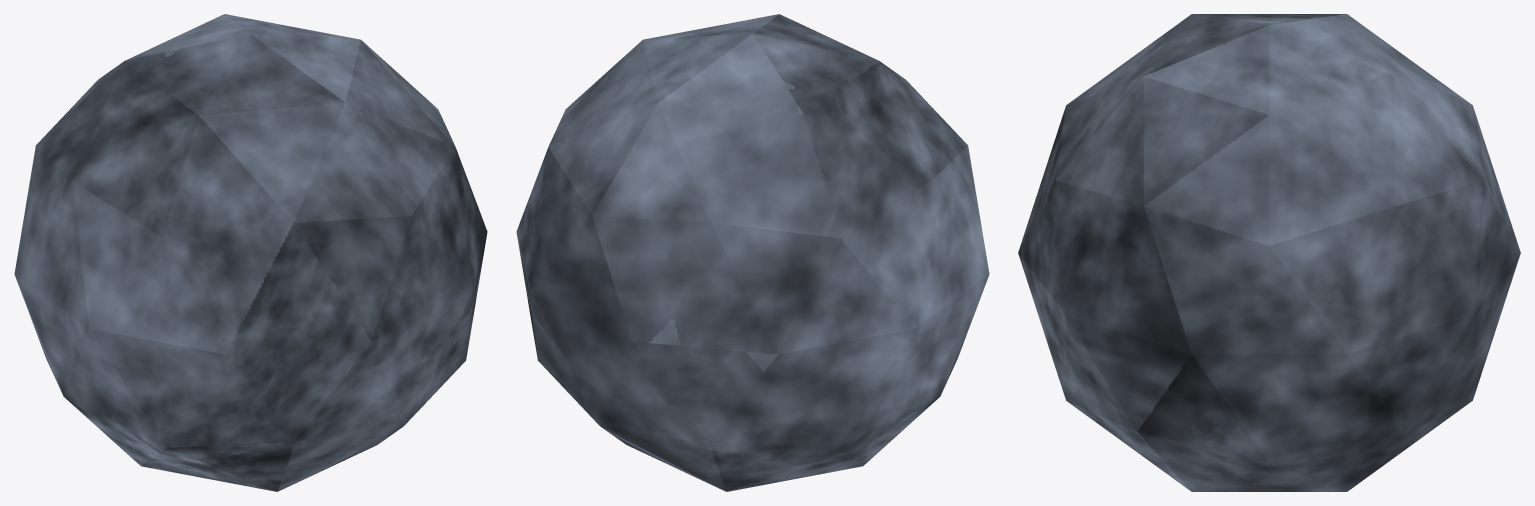
Rendered from big_planet.gltf.
The picture shows the model from 3 angles, left to right: view 1: azimuth 30°, elevation 25°; view 2: azimuth 150°, elevation 25°; view 3: azimuth 270°, elevation 25°; orthographic projection. The views are drawn at different scales.
Visible parts, largest first — view 1: Icosphere; view 2: Icosphere; view 3: Icosphere.
Boxes of the visible parts, x1,y1,x2,y2 form: Icosphere: (14,14,487,491); Icosphere: (516,14,989,491); Icosphere: (1018,14,1520,491).
Bounding box in the file's own units: 19.02 × 20 × 20.
1 material, 1 textured.
